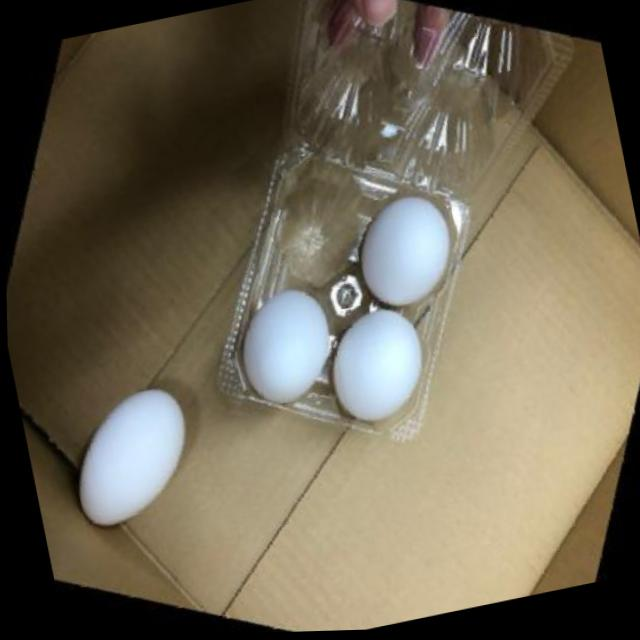egg: (57, 375, 205, 536), (343, 184, 466, 312), (320, 303, 437, 431), (230, 281, 344, 410)
